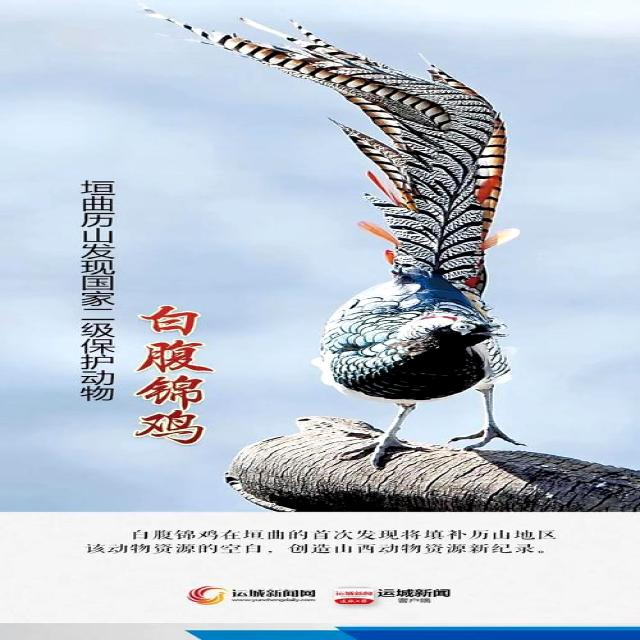Chrysolophus amherstiae: (148, 10, 506, 320)
